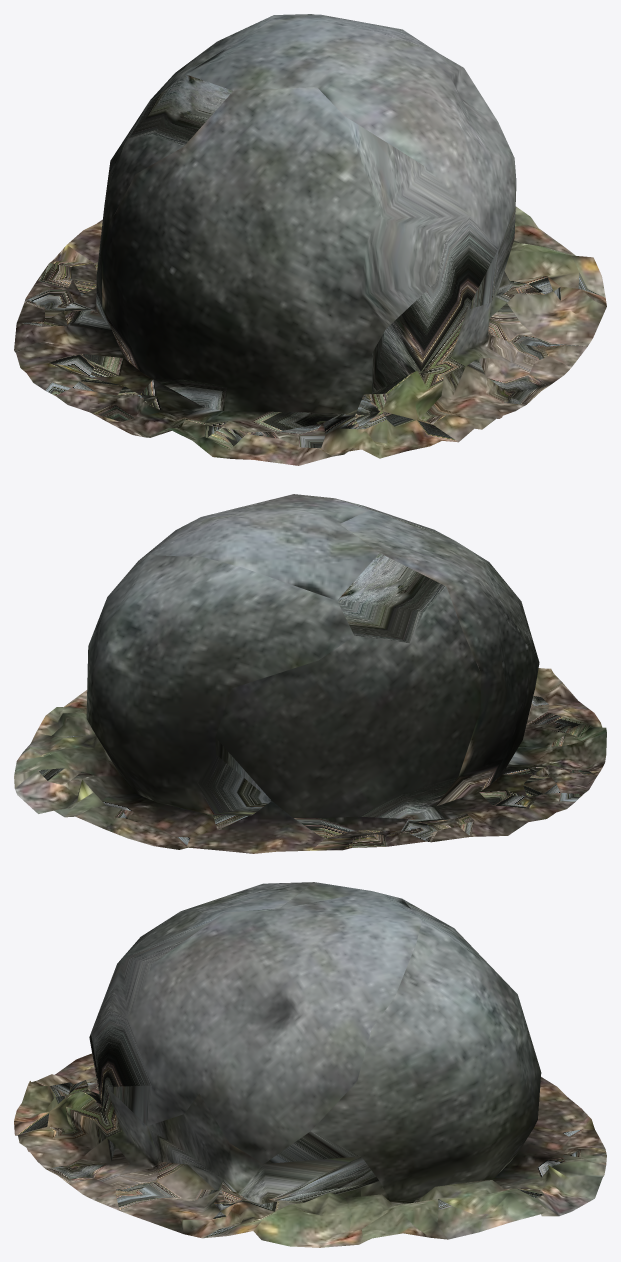
Rendered from big-boulder.lod0.glb.
3 renders of one model, top to bottom at view 1: azimuth 30°, elevation 25°; view 2: azimuth 150°, elevation 25°; view 3: azimuth 270°, elevation 25°, orthographic. The views are drawn at different scales.
Parts seen in each view (by area): view 1: big_boulder__0; view 2: big_boulder__0; view 3: big_boulder__0.
Part boxes in pixels (box(x1,y1,x2,y2)): big_boulder__0: box(14, 14, 606, 465); big_boulder__0: box(14, 494, 606, 853); big_boulder__0: box(14, 882, 606, 1247).
Size of the model in its own units: 5.73 by 2.73 by 5.99.
1 material, 1 textured.
